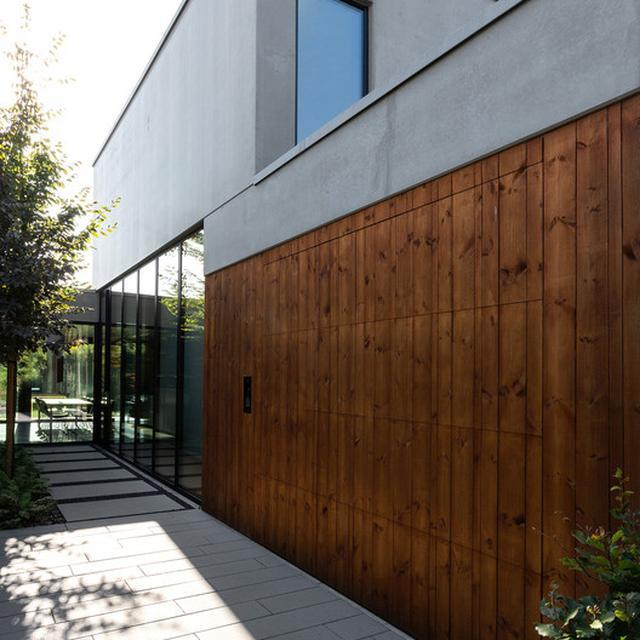building: (95, 5, 640, 640)
